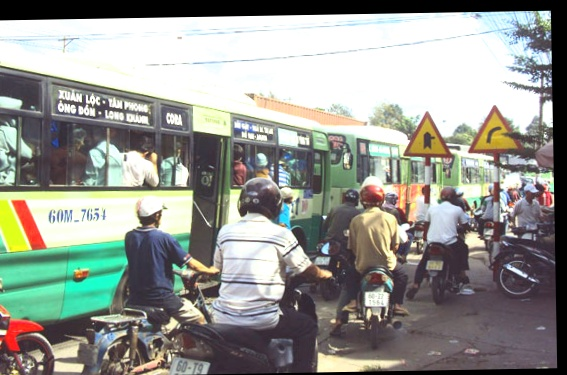Bien-so: (168, 355, 209, 374), (366, 292, 389, 307), (426, 258, 444, 271)
